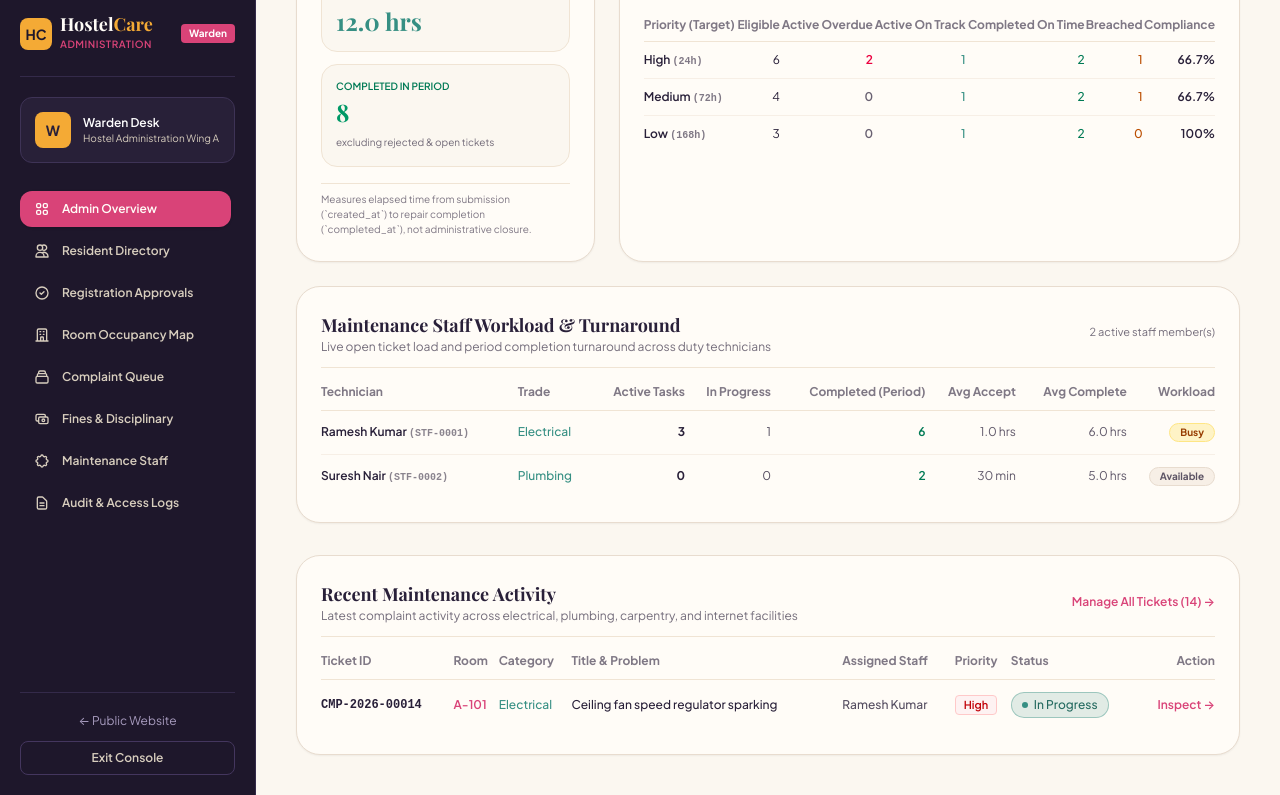
Test: Phase 4.1 Admin Dashboard & KPI Engine › loads authoritative KPI values, occupancy, finances, and recent activity from backend API
The image size is (1280, 795).
(page scrolled)
Expected: the text "CMP-2026-00014" is shown, [321, 680, 454, 730]
Expected: the text "Ceiling fan speed regulator sparking" is shown, [572, 680, 842, 730]
Click the button "Inspect →" at (1186, 705), box [1158, 697, 1215, 713]
(page scrolled)
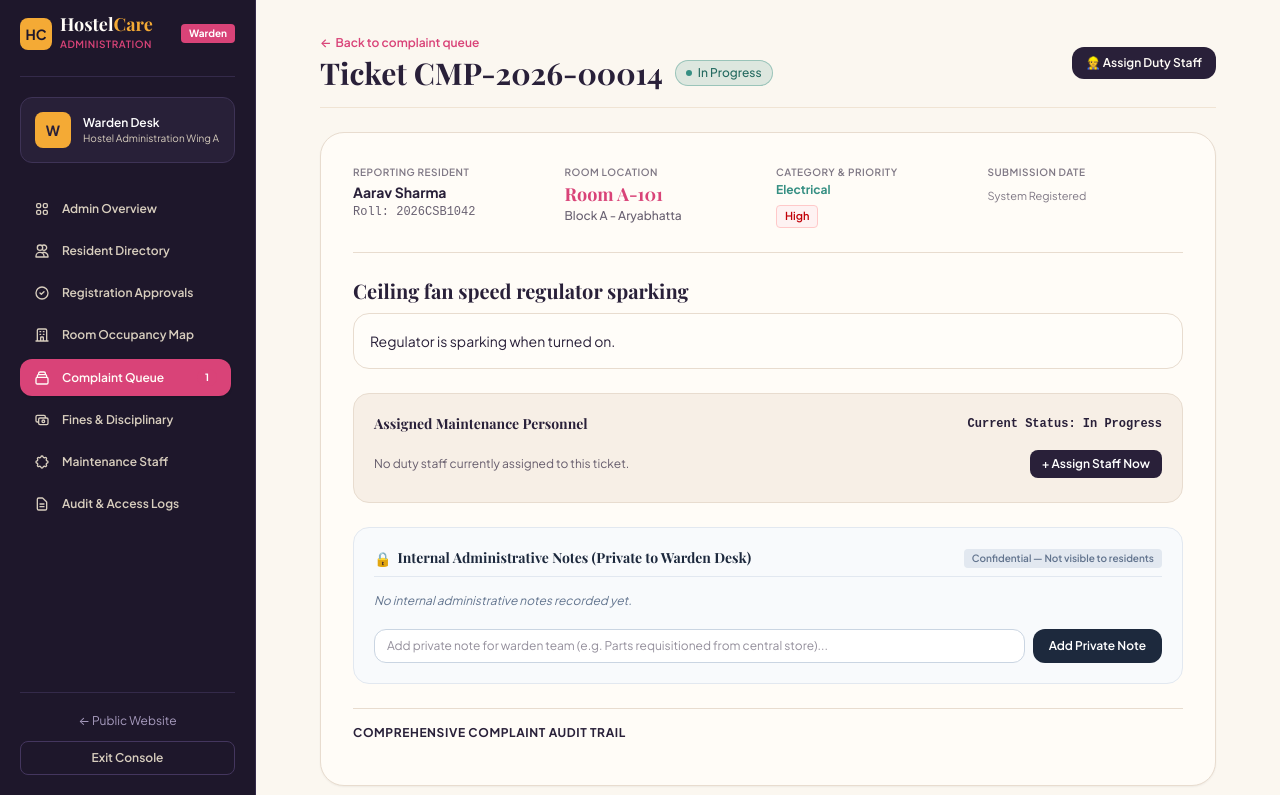
Expected: the heading "Ticket CMP-2026-00014" is shown, [320, 55, 663, 91]
